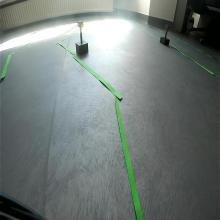green: (77, 20, 84, 28)
